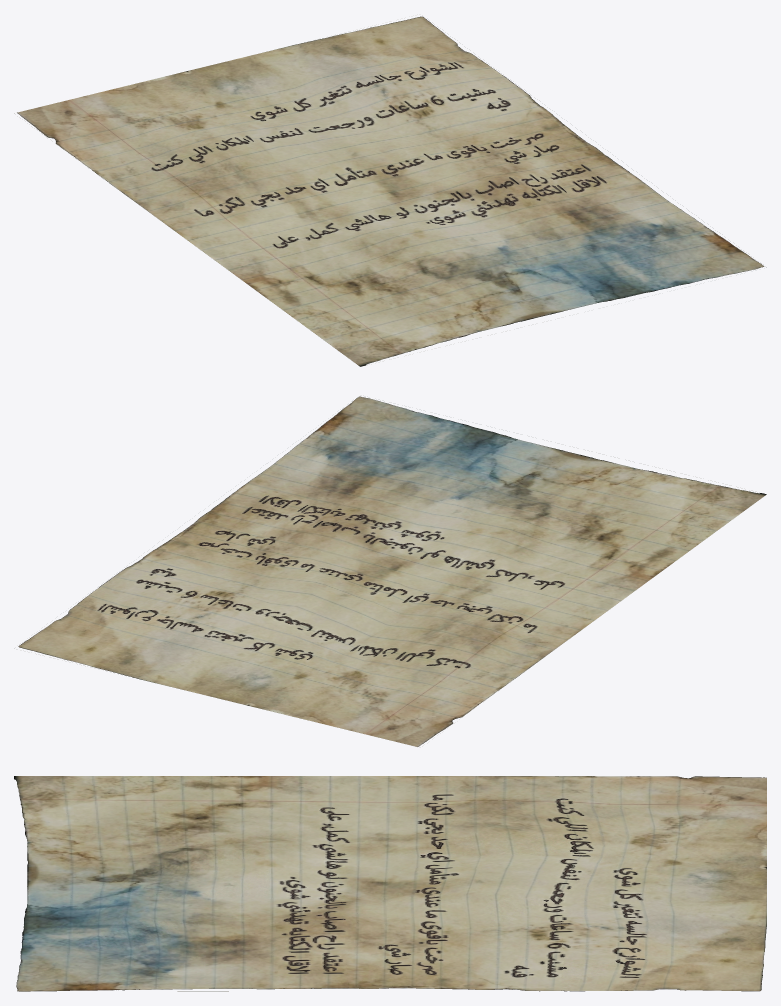
File: NOTE 3.fbx
The picture shows the model from 3 angles, top to bottom: view 1: azimuth 30°, elevation 25°; view 2: azimuth 150°, elevation 25°; view 3: azimuth 270°, elevation 25°; orthographic projection. The views are drawn at different scales.
Parts seen in each view (by area): view 1: pCube1; view 2: pCube1; view 3: pCube1.
Boxes of the visible parts, <box> form: pCube1: <box>14,16,766,366</box>; pCube1: <box>14,396,766,746</box>; pCube1: <box>14,776,766,991</box>.
Bounding box in the file's own units: 0.6782 × 0.00981 × 1.
1 material, 1 textured.
